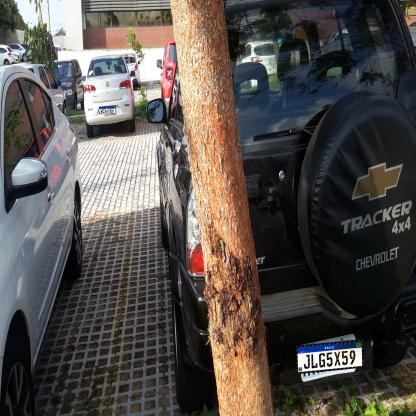PlacaM: (296, 339, 364, 374), (99, 107, 116, 114)
